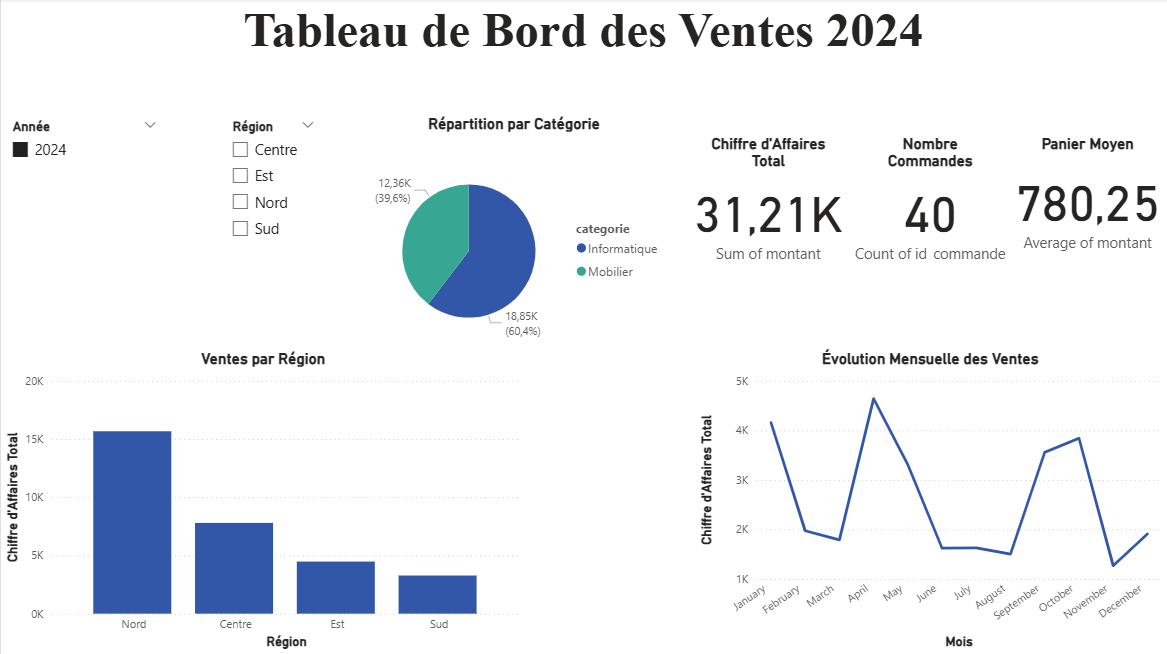

This screenshot's page, from the dashboard's own definition file:
{"tool":"powerbi","page":{"name":"Page 1","canvas":[1280,720],"ordinal":0},"visuals":[{"type":"card","title":"Chiffre d''Affaires Total","fields":{"Values":["Sum(ventes_db commandes.montant)"]},"box":[749.2,149.6,186.6,142.7],"z":0},{"type":"card","title":"Nombre Commandes","fields":{"Values":["CountNonNull(ventes_db commandes.id_commande)"]},"box":[931.7,149.6,177,142.7],"z":1000},{"type":"card","title":"Panier Moyen","fields":{"Values":["Avg(ventes_db commandes.montant)"]},"box":[1107.1,150,171.4,140],"z":2000},{"type":"lineChart","title":"Évolution Mensuelle des Ventes","fields":{"Category":["ventes_db commandes.date_commande.Variation.Date Hierarchy.Month"],"Y":["Sum(ventes_db commandes.montant)"]},"box":[761.4,385.7,517.1,334.3],"z":3000},{"type":"lineClusteredColumnComboChart","title":"Ventes par Région","fields":{"Category":["ventes_db clients.region"],"Y":["Sum(ventes_db commandes.montant)"]},"box":[0,385.7,575.7,334.3],"z":4000},{"type":"pieChart","title":"Répartition par Catégorie","fields":{"Category":["ventes_db produits.categorie"],"Y":["Sum(ventes_db commandes.montant)"]},"box":[391.4,127.1,344.3,280],"z":5000},{"type":"slicer","fields":{"Values":["ventes_db commandes.date_commande.Variation.Date Hierarchy.Year"]},"box":[0,127.1,182.9,125.7],"z":6000},{"type":"slicer","fields":{"Values":["ventes_db clients.region"]},"box":[241.4,127.1,114.3,164.3],"z":7000},{"type":"textbox","box":[0,0,1278.6,87.1],"z":8000}]}

Visuals, with their boxes in screenshot pixels (x1, y1, x2, y2), scaled from the page's 1280x720 canvas onto the 1167x654 screenshot:
"Chiffre d''Affaires Total" card: pyautogui.locateOnScreen(683, 136, 853, 266)
"Nombre Commandes" card: pyautogui.locateOnScreen(849, 136, 1011, 266)
"Panier Moyen" card: pyautogui.locateOnScreen(1009, 136, 1166, 263)
"Évolution Mensuelle des Ventes" lineChart: pyautogui.locateOnScreen(694, 350, 1166, 653)
"Ventes par Région" lineClusteredColumnComboChart: pyautogui.locateOnScreen(0, 350, 525, 653)
"Répartition par Catégorie" pieChart: pyautogui.locateOnScreen(357, 115, 671, 370)
slicer - ventes_db commandes.date_commande.Variation.Date Hierarchy.Year: pyautogui.locateOnScreen(0, 115, 167, 230)
slicer - ventes_db clients.region: pyautogui.locateOnScreen(220, 115, 324, 265)
textbox: pyautogui.locateOnScreen(0, 0, 1166, 79)
